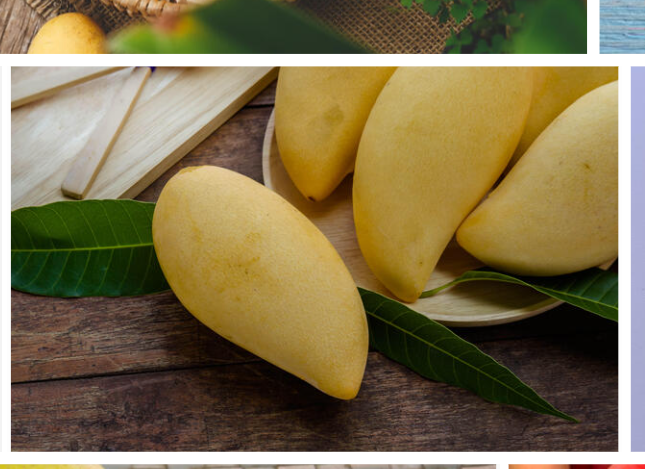mango: (153, 166, 367, 400), (355, 66, 532, 304)
